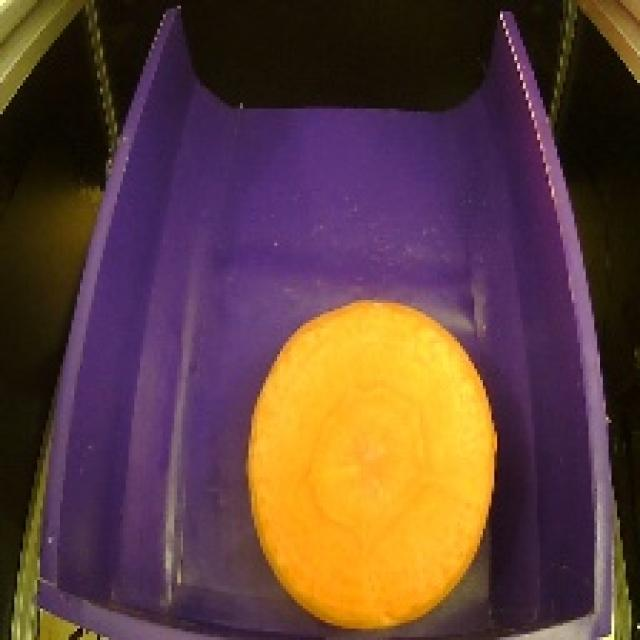carrots: (238, 291, 504, 640)
